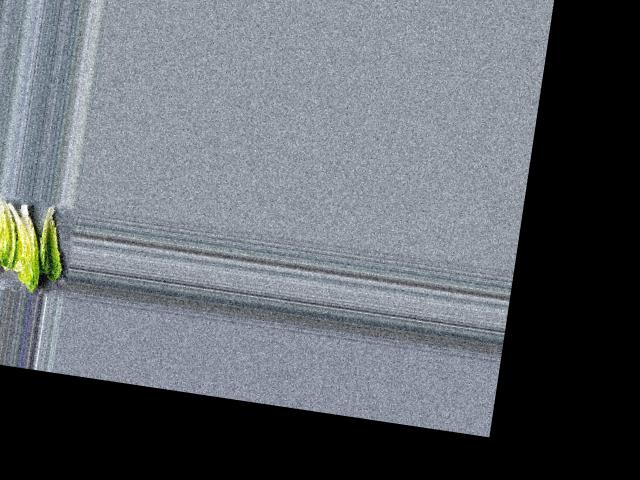lettuce: (33, 202, 69, 281)
